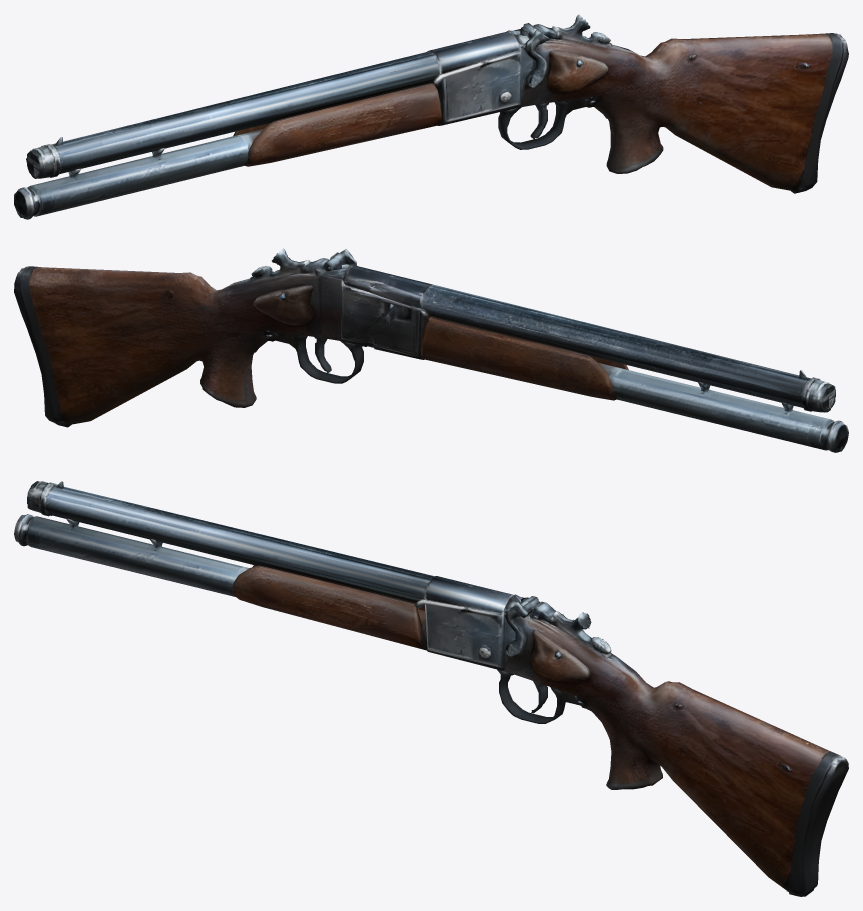
Rendered from Winchester_Model_1897.glb.
The picture shows the model from 3 angles, top to bottom: view 1: azimuth 30°, elevation 25°; view 2: azimuth 150°, elevation 25°; view 3: azimuth 330°, elevation 25°; orthographic projection.
Visible parts, largest first — view 1: tripo_node_9ae19479-ebf7-48b8-b9fb-9f9abc5e8946; view 2: tripo_node_9ae19479-ebf7-48b8-b9fb-9f9abc5e8946; view 3: tripo_node_9ae19479-ebf7-48b8-b9fb-9f9abc5e8946.
Boxes of the visible parts, x1=… form: tripo_node_9ae19479-ebf7-48b8-b9fb-9f9abc5e8946: x1=14, y1=14, x2=848, y2=219; tripo_node_9ae19479-ebf7-48b8-b9fb-9f9abc5e8946: x1=14, y1=248, x2=848, y2=452; tripo_node_9ae19479-ebf7-48b8-b9fb-9f9abc5e8946: x1=14, y1=481, x2=848, y2=896.
Bounding box in the file's own units: 0.998 × 0.2715 × 0.0723.
Materials: 1 (1 with a texture image).
